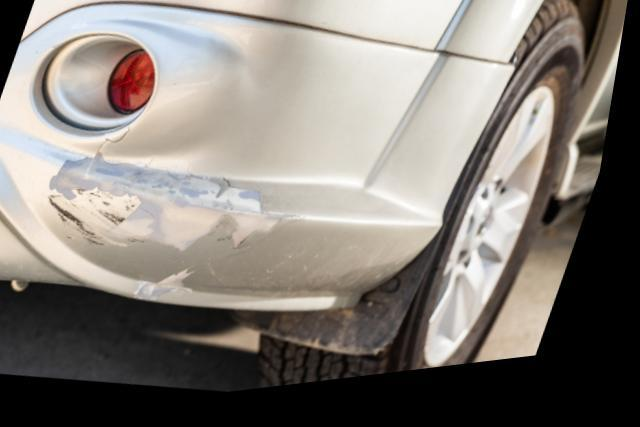dent: (95, 40, 332, 220), (155, 0, 266, 14)
scratch: (45, 158, 297, 261)
